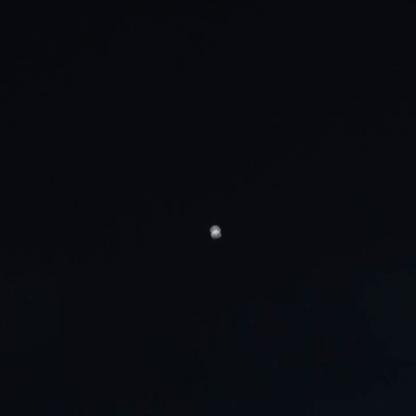ball: (199, 216, 234, 238)
